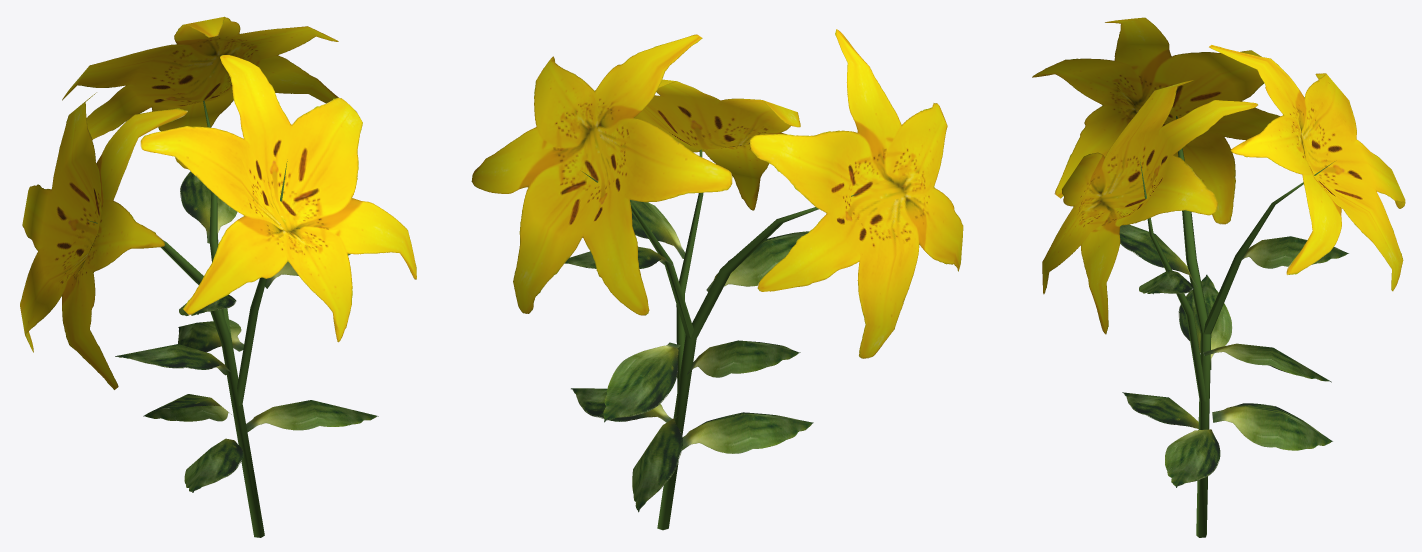
The model's file is LowPoly Flower A03.FBX.
3 views of the same model, side by side, from view 1: azimuth 30°, elevation 25°; view 2: azimuth 150°, elevation 25°; view 3: azimuth 270°, elevation 25° (orthographic). The views are drawn at different scales.
Visible parts, largest first — view 1: LowPoly Flower A03; view 2: LowPoly Flower A03; view 3: LowPoly Flower A03.
Boxes of the visible parts, x1,y1,x2,y2 form: LowPoly Flower A03: (20,16,416,537); LowPoly Flower A03: (471,29,963,530); LowPoly Flower A03: (1032,17,1405,537).
Size of the model in its own units: 27.95 by 34.81 by 26.92.
3 materials, 2 textured.
